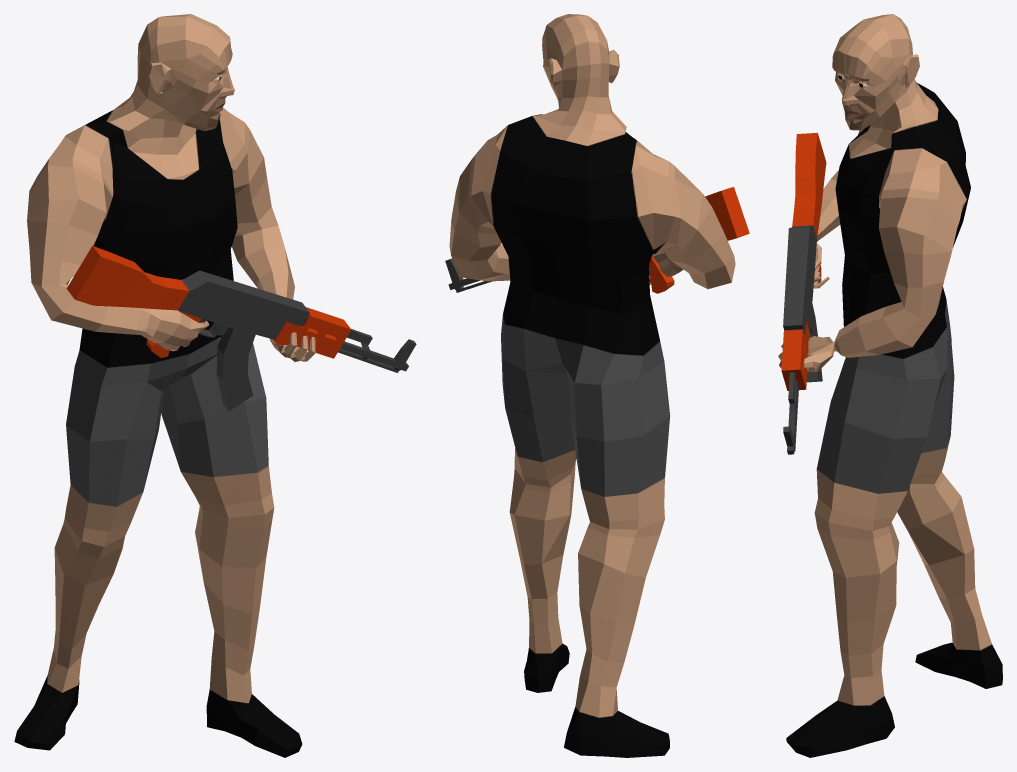
Rendered from PlayerIdle(127).obj.
3 renders of one model, left to right at view 1: azimuth 30°, elevation 25°; view 2: azimuth 150°, elevation 25°; view 3: azimuth 270°, elevation 25°, orthographic. The views are drawn at different scales.
Parts seen in each view (by area): view 1: Plane002, Object001; view 2: Plane002, Object001; view 3: Plane002, Object001.
Boxes of the visible parts, x1,y1,x2,y2 form: Plane002: [14, 14, 332, 757]; Object001: [66, 246, 416, 410]; Plane002: [449, 14, 735, 757]; Object001: [445, 187, 749, 293]; Plane002: [778, 14, 1002, 757]; Object001: [781, 132, 826, 454].
Size of the model in its own units: 883 by 1797 by 523.
